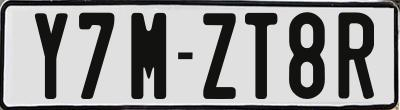7: (76, 10, 115, 99)
8: (286, 10, 327, 98)
M: (131, 13, 166, 100)
R: (338, 12, 374, 103)
T: (245, 12, 279, 103)
Y: (34, 12, 68, 98)
Z: (203, 11, 242, 100)
